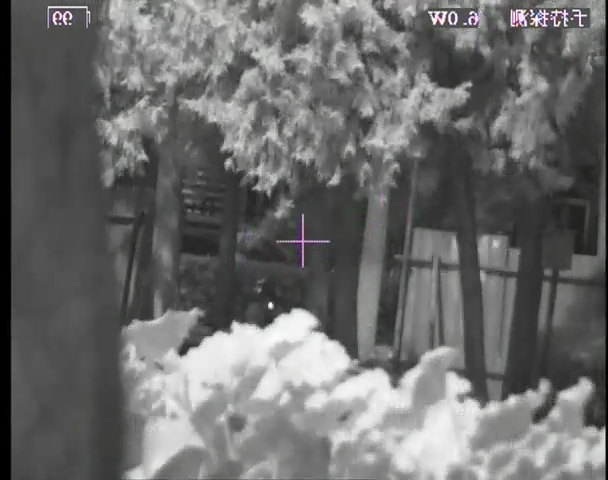my: (267, 300, 277, 310)
